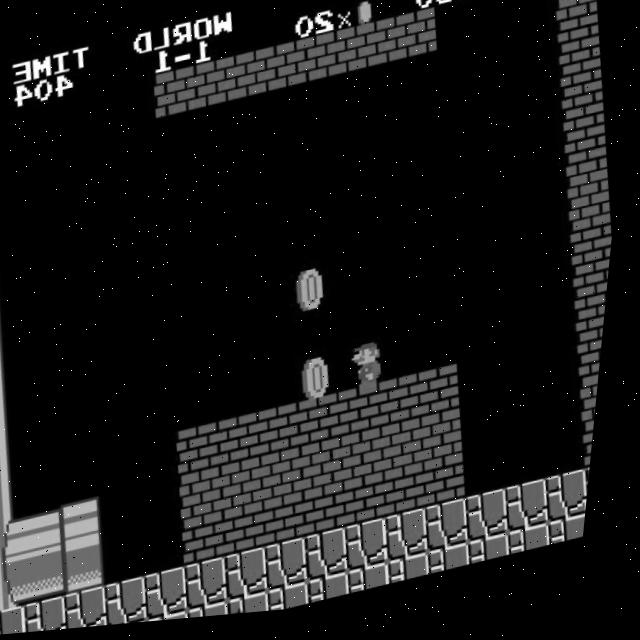1- brick_block: (391, 15, 443, 71), (425, 417, 477, 473), (311, 33, 363, 89), (345, 435, 397, 491), (231, 51, 283, 107), (265, 453, 317, 509), (151, 69, 203, 125), (185, 471, 237, 527), (428, 462, 480, 517), (351, 24, 403, 79), (385, 426, 437, 481), (388, 471, 440, 526), (348, 480, 400, 535), (271, 42, 323, 97), (305, 444, 357, 499), (308, 489, 360, 544), (268, 498, 320, 553), (191, 60, 243, 115), (225, 462, 277, 517), (228, 507, 280, 562), (188, 516, 240, 571), (563, 112, 614, 168), (566, 157, 617, 213), (421, 373, 473, 427), (381, 382, 433, 436), (341, 391, 393, 445), (301, 400, 353, 454), (261, 409, 313, 463), (221, 418, 273, 472), (181, 427, 233, 481), (570, 202, 621, 257), (555, 24, 606, 78), (559, 69, 610, 123), (574, 246, 618, 301), (578, 292, 614, 347), (551, 0, 602, 34), (581, 337, 611, 390), (585, 383, 608, 436), (588, 427, 604, 480)
11- little_mario: (350, 343, 404, 401)
14- pipe: (25, 507, 77, 563), (29, 552, 81, 607), (0, 560, 41, 615), (0, 516, 37, 571), (0, 471, 33, 525), (0, 426, 30, 481), (0, 382, 26, 437), (0, 338, 22, 392), (0, 292, 19, 347), (0, 248, 15, 302), (0, 203, 10, 256), (0, 159, 7, 211), (0, 113, 3, 166)
15- pipe_head: (65, 498, 117, 553), (69, 543, 121, 598)
17- undestructible_block: (512, 488, 564, 544), (432, 506, 484, 562), (352, 524, 404, 580), (272, 542, 324, 598), (472, 498, 524, 553), (392, 516, 444, 571), (312, 534, 364, 589), (232, 552, 284, 607), (192, 561, 244, 616), (152, 570, 204, 625), (551, 479, 600, 534), (113, 578, 164, 629), (73, 587, 124, 632), (34, 597, 84, 634), (518, 534, 564, 566), (478, 542, 524, 574), (438, 552, 484, 584), (398, 560, 444, 592), (358, 570, 404, 602), (318, 578, 364, 610), (0, 605, 45, 637), (278, 587, 324, 617), (558, 524, 597, 556), (239, 596, 284, 620), (199, 606, 244, 623), (160, 614, 204, 625)
2- coin: (290, 266, 342, 321), (297, 355, 349, 410)
